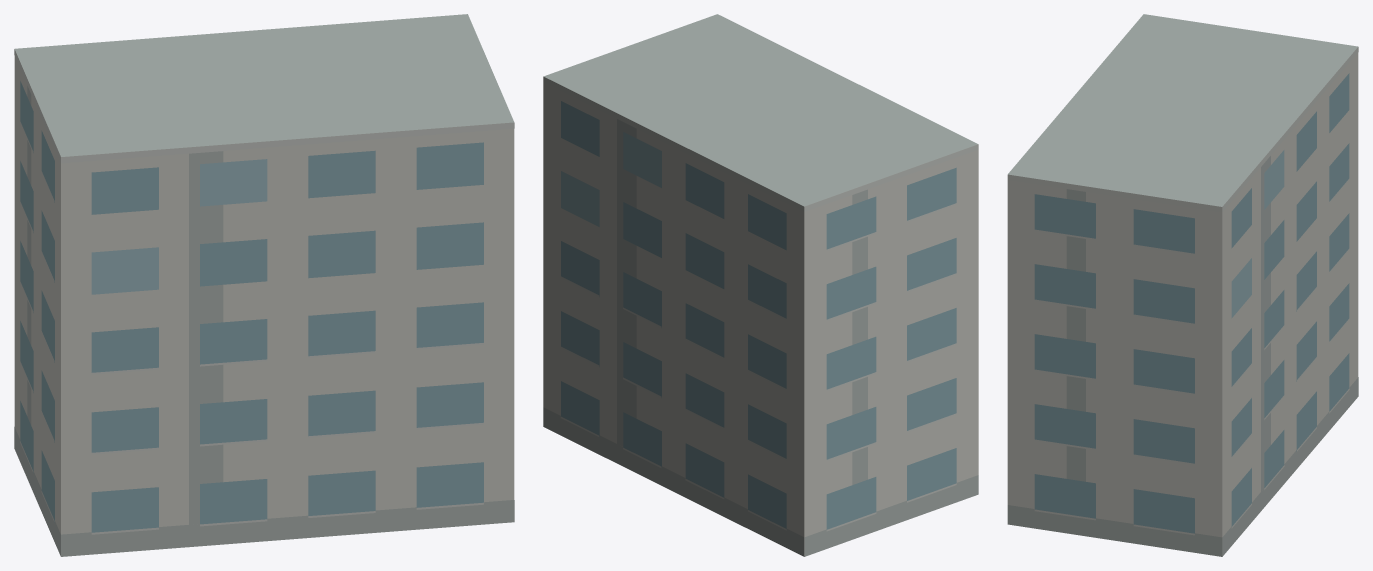
Rendered from residential-e78965a7-b537-486f-b6f0-5fea7adf187b.glb.
The picture shows the model from 3 angles, left to right: view 1: azimuth 30°, elevation 25°; view 2: azimuth 150°, elevation 25°; view 3: azimuth 270°, elevation 25°; orthographic projection. The views are drawn at different scales.
Visible parts, largest first — view 1: residential-e78965a7-b537-486f-b6f0-5fea7adf187b.tmp; view 2: residential-e78965a7-b537-486f-b6f0-5fea7adf187b.tmp; view 3: residential-e78965a7-b537-486f-b6f0-5fea7adf187b.tmp.
Part boxes in pixels (x1,y1,x2,y2): residential-e78965a7-b537-486f-b6f0-5fea7adf187b.tmp: (14,14,514,556); residential-e78965a7-b537-486f-b6f0-5fea7adf187b.tmp: (543,14,978,556); residential-e78965a7-b537-486f-b6f0-5fea7adf187b.tmp: (1007,14,1358,556).
Bounding box in the file's own units: 18.04 × 15.25 × 13.87.
